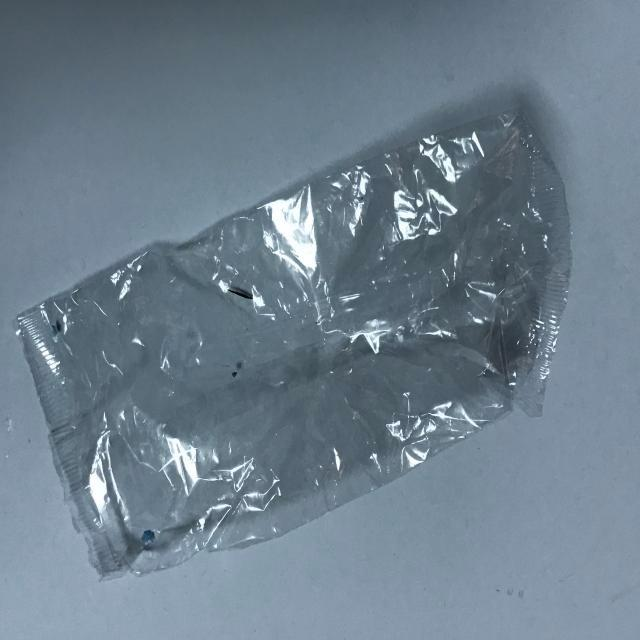plastic: (2, 64, 584, 584)
